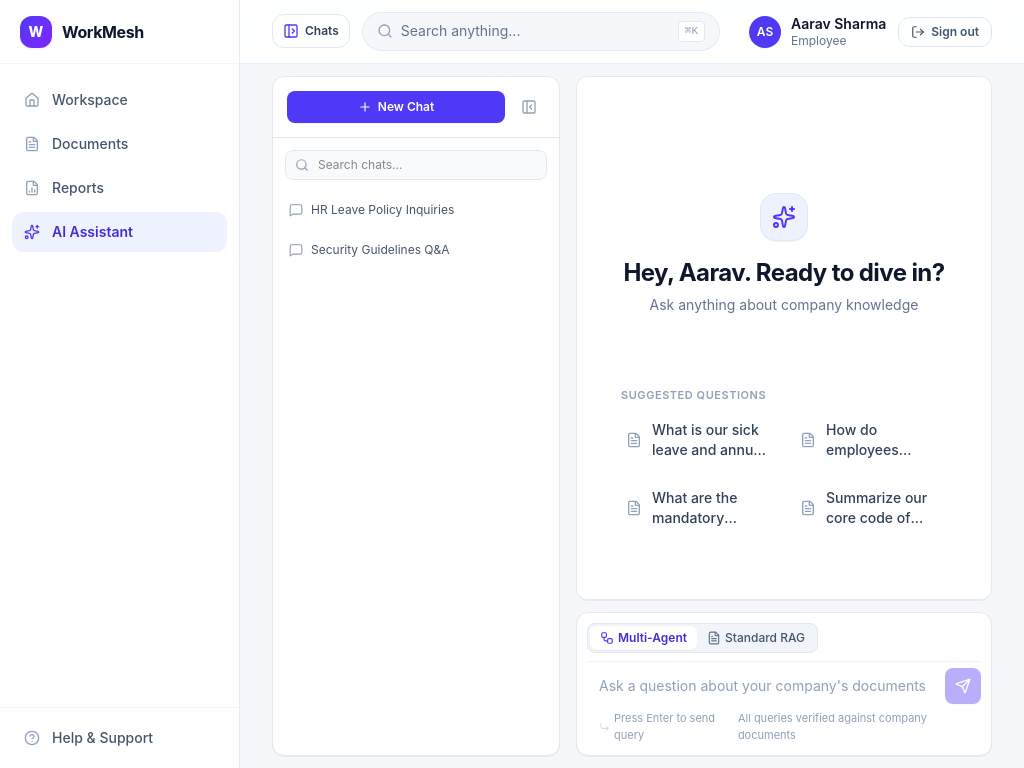
Test: KnowledgeAssistantPage › switches thread and loads previous messages on sidebar click
// Click thread item in sidebar
Click the text "HR Leave Policy Inquiries" at [383, 210], box [311,202,454,218]
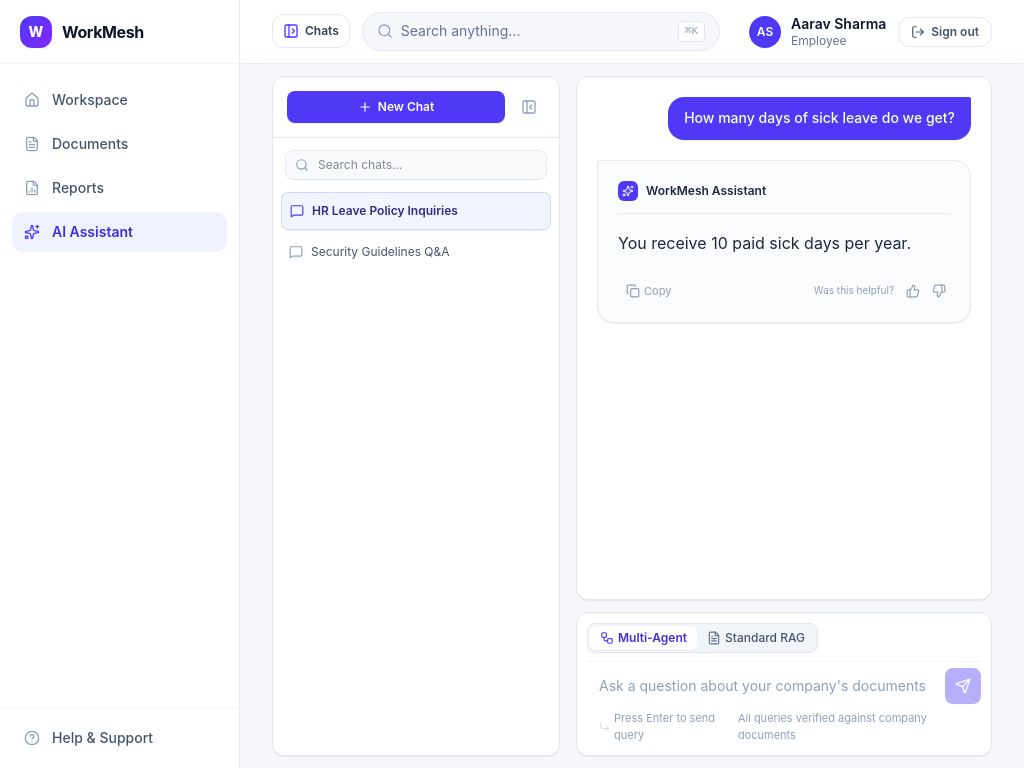
Expected: the text "How many days of sick leave do we get?" is shown, [668,97,971,140]
Expected: the text "You receive 10 paid sick days per year." is shown, [618,230,950,256]
